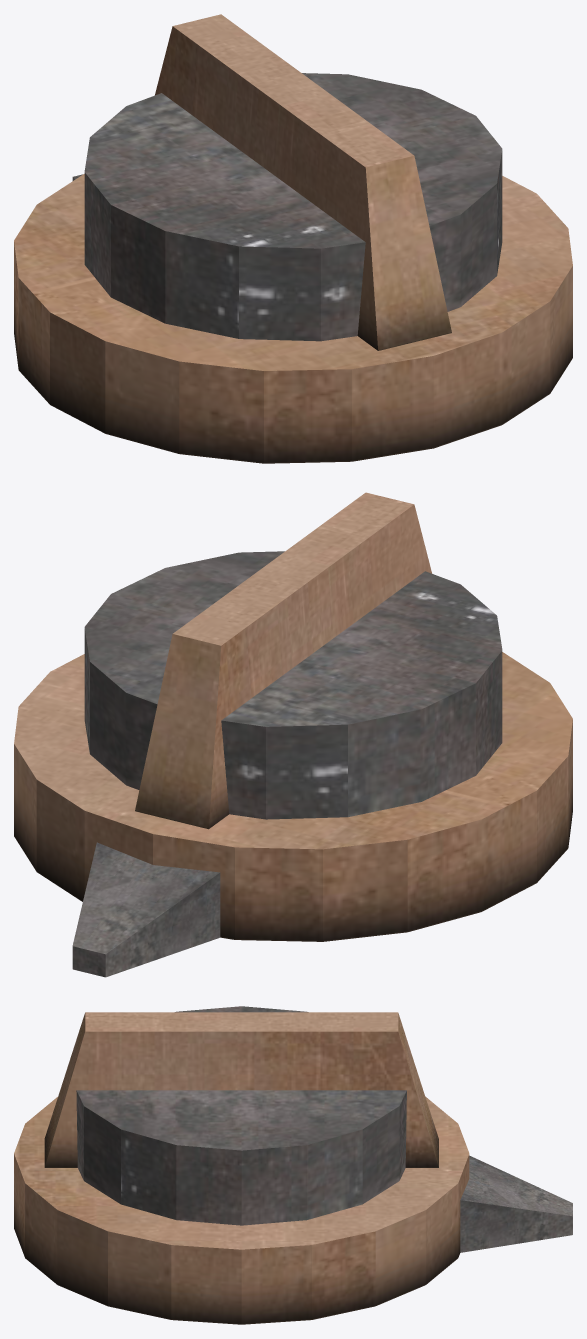
Rendered from knob__scp-914.glb.
The picture shows the model from 3 angles, top to bottom: view 1: azimuth 30°, elevation 25°; view 2: azimuth 150°, elevation 25°; view 3: azimuth 270°, elevation 25°; orthographic projection. The views are drawn at different scales.
Visible parts, largest first — view 1: World; view 2: World; view 3: World.
Part boxes in pixels (x1,y1,x2,y2): World: [14, 14, 572, 463]; World: [14, 492, 572, 977]; World: [14, 1006, 572, 1324].
Size of the model in its own units: 22 by 11 by 27.
2 materials, 2 textured.
